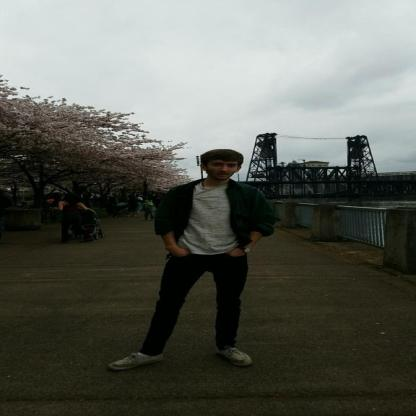Someiyoshino: (4, 82, 185, 186)
